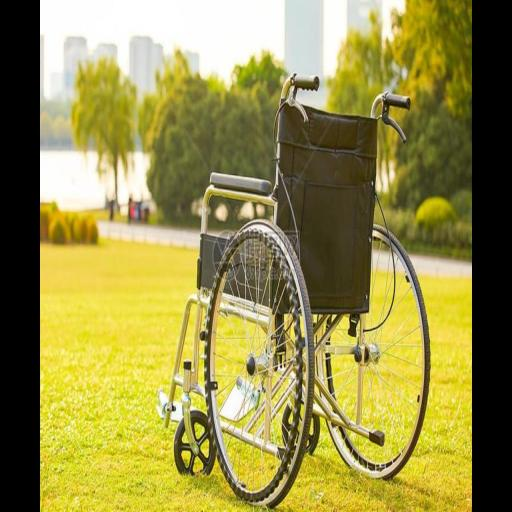cadeira_de_rodas: (150, 68, 435, 511)
